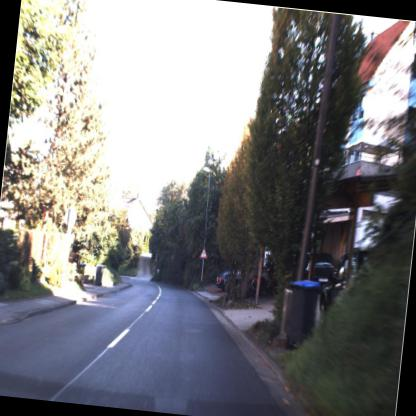danger: (194, 241, 211, 261)
